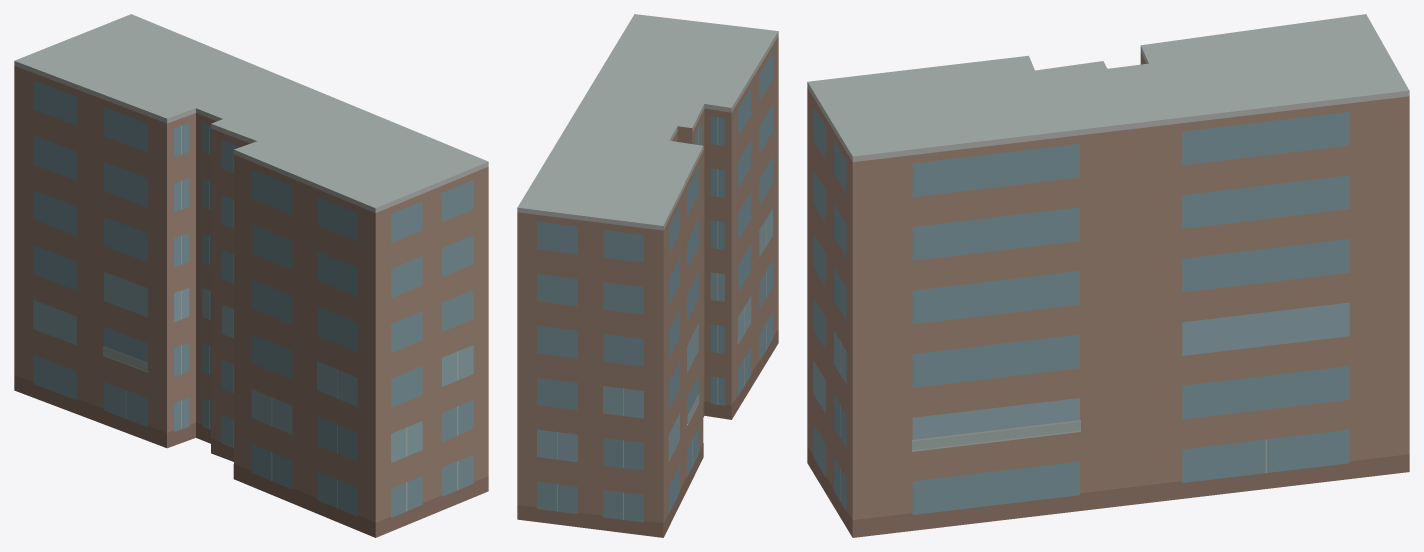
The model's file is survey-upis-32558083.glb.
3 renders of one model, left to right at view 1: azimuth 30°, elevation 25°; view 2: azimuth 150°, elevation 25°; view 3: azimuth 270°, elevation 25°, orthographic. The views are drawn at different scales.
Visible parts, largest first — view 1: survey-upis-32558083.tmp; view 2: survey-upis-32558083.tmp; view 3: survey-upis-32558083.tmp.
Part boxes in pixels (x1=…): survey-upis-32558083.tmp: x1=14, y1=14, x2=488, y2=537; survey-upis-32558083.tmp: x1=517, y1=14, x2=778, y2=537; survey-upis-32558083.tmp: x1=807, y1=14, x2=1409, y2=537.
Bounding box in the file's own units: 13.32 × 16.6 × 23.77.
